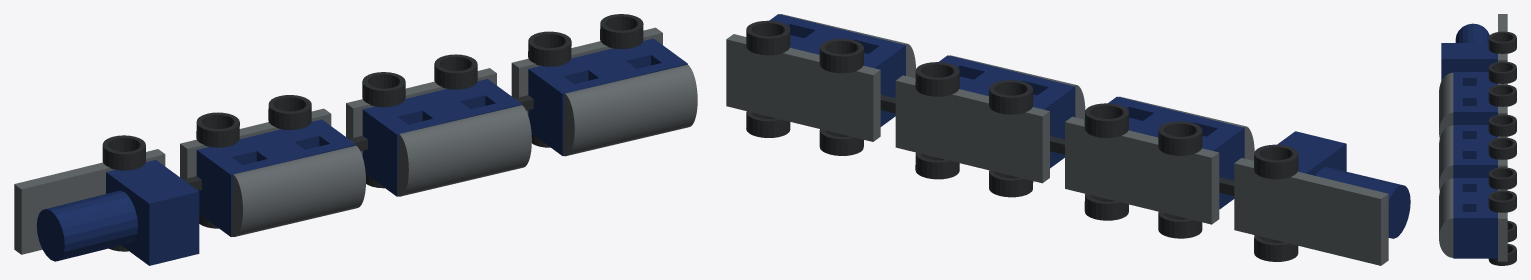
File: tinker.obj
3 views of the same model, side by side, from view 1: azimuth 30°, elevation 25°; view 2: azimuth 150°, elevation 25°; view 3: azimuth 270°, elevation 25° (orthographic). The views are drawn at different scales.
Visible parts, largest first — view 1: group_0_6383466, group_0_1650274, group_0_2829873; view 2: group_0_6383466, group_0_2829873, group_0_1650274; view 3: group_0_1650274, group_0_2829873, group_0_6383466.
Boxes of the visible parts, x1,y1,x2,y2 form: group_0_6383466: (14,27,697,254); group_0_1650274: (36,38,687,265); group_0_2829873: (102,14,643,251); group_0_6383466: (726,14,1388,265); group_0_2829873: (746,20,1298,261); group_0_1650274: (769,14,1410,238); group_0_1650274: (1441,23,1497,258); group_0_2829873: (1488,31,1516,265); group_0_6383466: (1439,14,1507,261).
Size of the model in its own units: 205 by 30 by 33.
